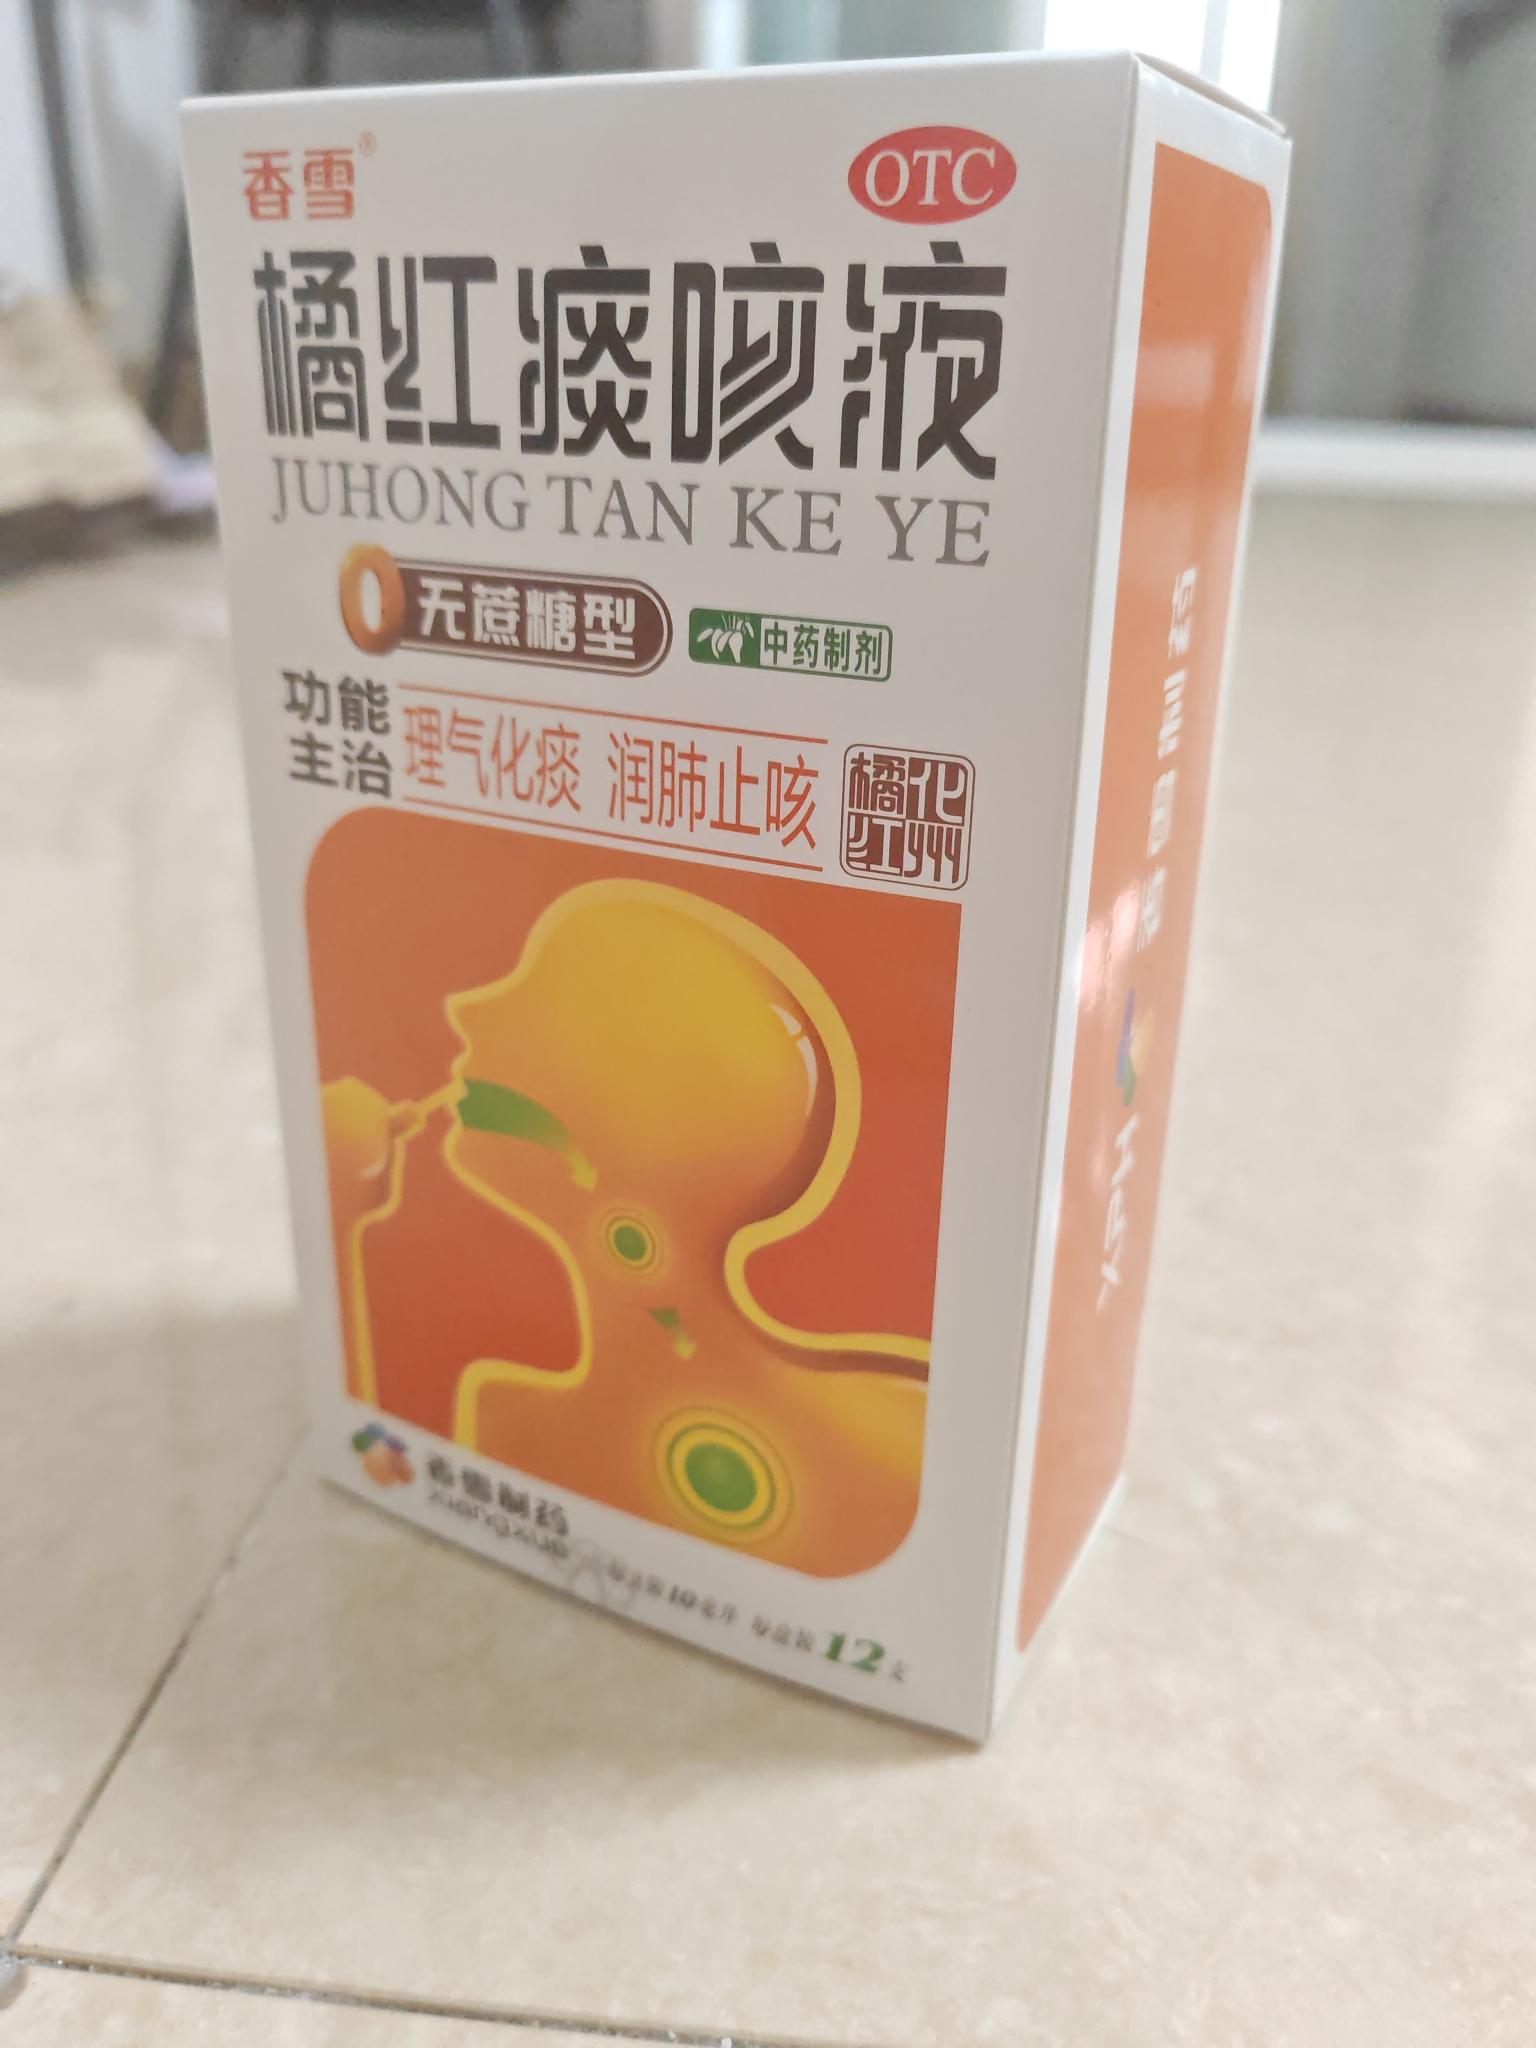Medicine1: (157, 35, 1307, 1782)
